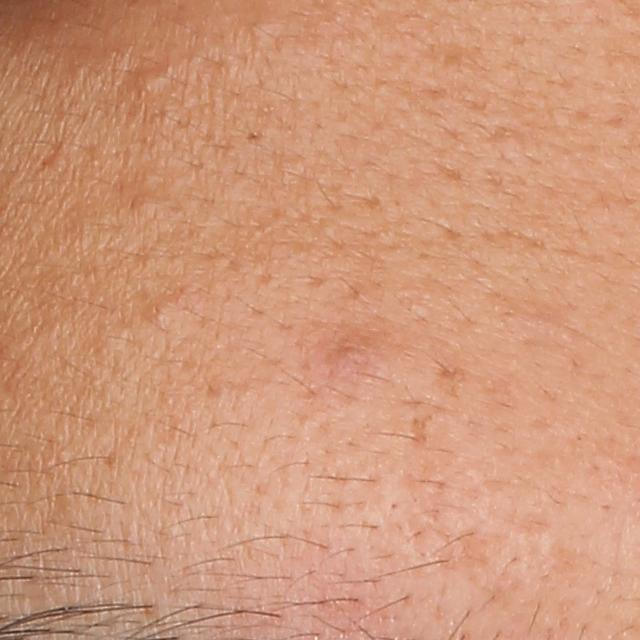comedo: (141, 296, 175, 327), (134, 66, 163, 95)
